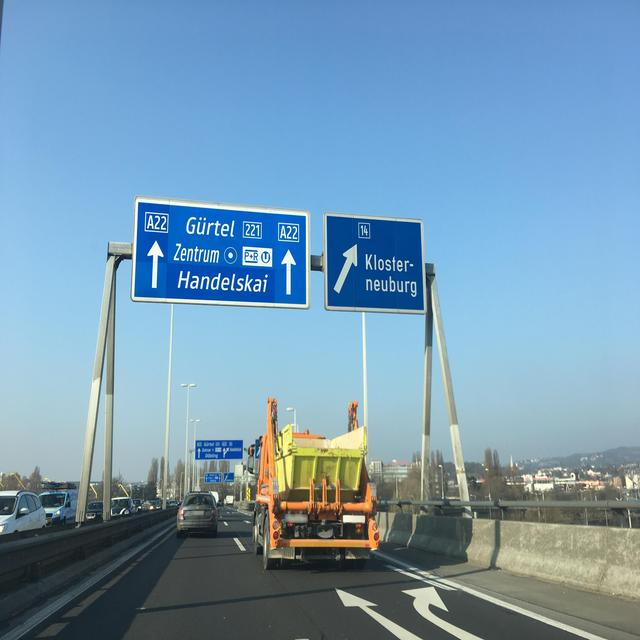Barrier: (375, 512, 639, 600)
Car: (0, 482, 162, 534), (167, 491, 233, 538)
Vegetation: (377, 451, 462, 517), (479, 508, 570, 524), (242, 476, 256, 500)
